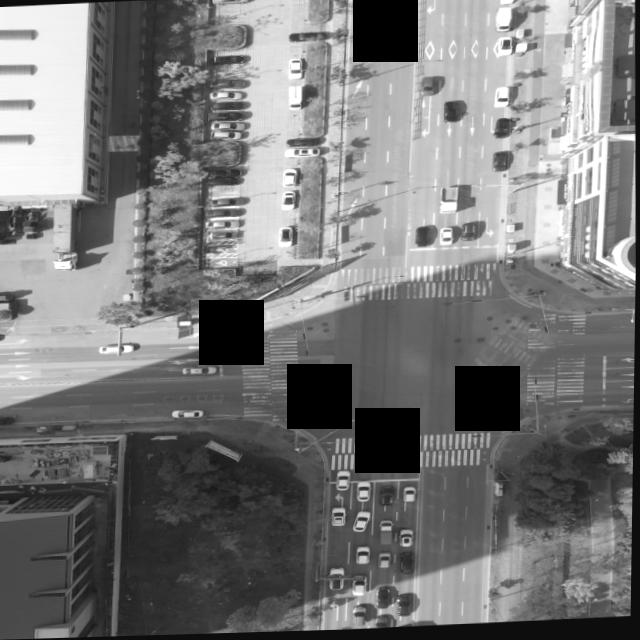car: (288, 31, 327, 43), (208, 110, 244, 122), (183, 363, 217, 375), (285, 146, 321, 157), (173, 407, 205, 419), (208, 77, 245, 87), (210, 198, 246, 208), (285, 58, 301, 80), (330, 568, 345, 591), (415, 229, 433, 248), (212, 100, 246, 110), (209, 208, 243, 218), (213, 55, 247, 65), (101, 343, 135, 353), (211, 341, 241, 352), (209, 218, 241, 228), (286, 138, 318, 148), (209, 176, 241, 186), (209, 167, 241, 177), (377, 588, 392, 609), (444, 103, 459, 124), (212, 131, 243, 141), (211, 91, 242, 101), (209, 230, 237, 241), (460, 225, 478, 242), (493, 89, 508, 109), (353, 512, 369, 530), (496, 39, 512, 57), (213, 123, 245, 132), (352, 576, 367, 595), (352, 607, 366, 627), (402, 553, 416, 573), (278, 227, 292, 247), (396, 597, 410, 617), (493, 119, 507, 139), (280, 192, 295, 210), (418, 78, 432, 97), (356, 482, 370, 500), (337, 472, 351, 490), (332, 508, 346, 526), (381, 486, 395, 504), (400, 531, 414, 548), (491, 154, 504, 172), (356, 548, 370, 564), (282, 169, 296, 185), (442, 229, 454, 246), (404, 487, 417, 501), (379, 553, 391, 568), (376, 617, 388, 630), (0, 417, 16, 425), (213, 0, 249, 3), (500, 0, 516, 5)
large_truck: (50, 202, 80, 270)
small_truck: (439, 187, 460, 216), (493, 10, 510, 34), (285, 86, 301, 110), (379, 521, 393, 547)
